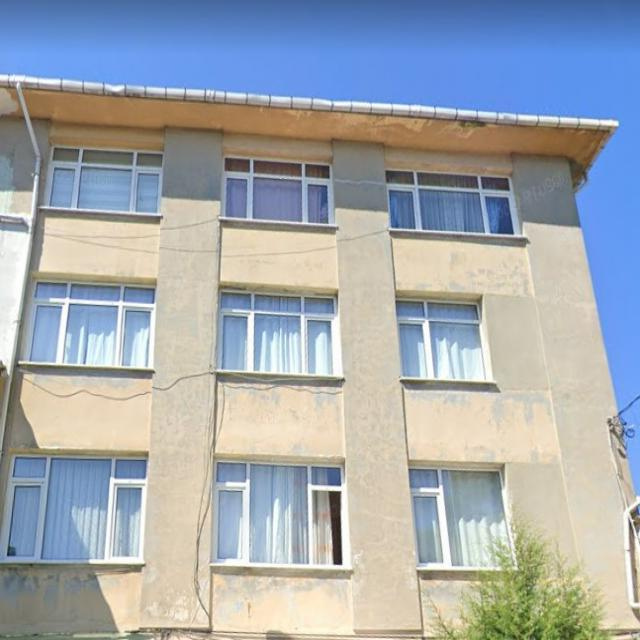Building: (0, 75, 639, 640)
